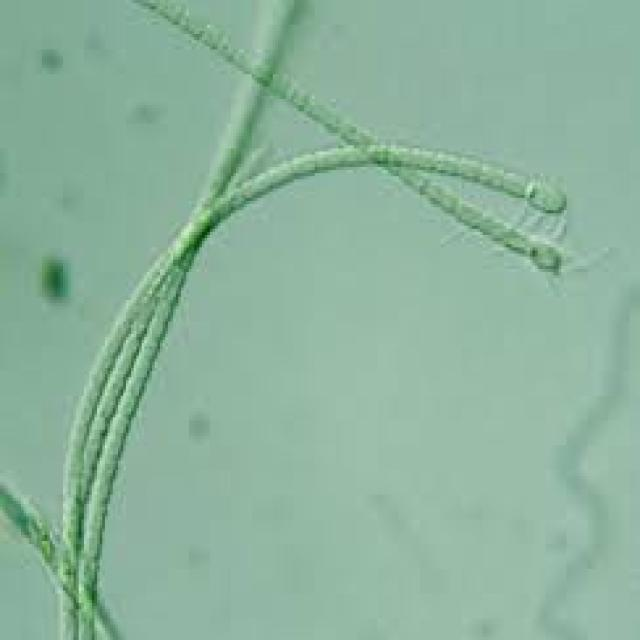Blue Green Algae: (527, 180, 569, 217), (530, 238, 561, 278), (453, 201, 482, 235), (315, 145, 346, 173), (81, 504, 108, 532), (409, 142, 433, 173), (501, 164, 525, 195), (504, 222, 527, 254), (433, 145, 459, 173), (73, 392, 92, 427), (244, 170, 270, 195), (480, 158, 501, 188), (268, 161, 294, 185), (66, 421, 89, 448), (388, 142, 409, 170), (459, 154, 480, 182), (81, 528, 102, 556), (105, 414, 131, 436), (115, 393, 142, 414), (200, 18, 220, 46), (126, 374, 147, 399), (89, 479, 110, 504), (291, 152, 312, 176), (131, 356, 155, 377), (105, 433, 126, 457), (97, 458, 121, 479), (218, 31, 233, 62), (147, 318, 168, 337), (155, 297, 173, 318), (139, 334, 160, 352)
